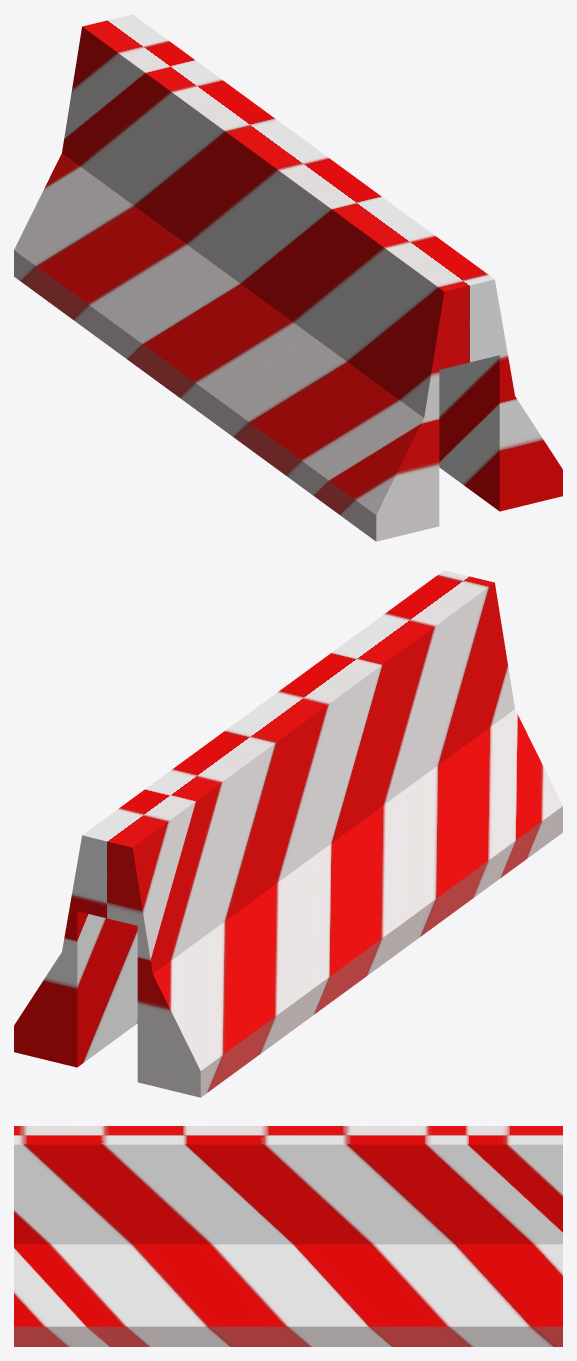
The model's file is road_block_t2.FBX.
3 views of the same model, one above another, from view 1: azimuth 30°, elevation 25°; view 2: azimuth 150°, elevation 25°; view 3: azimuth 270°, elevation 25° (orthographic). The views are drawn at different scales.
Parts seen in each view (by area): view 1: Box002; view 2: Box002; view 3: Box002.
Part boxes in pixels (bbox=[...]): Box002: bbox=[14, 14, 562, 541]; Box002: bbox=[14, 570, 562, 1097]; Box002: bbox=[14, 1126, 562, 1346].
Size of the model in its own units: 3.37 by 11.31 by 4.02.
Materials: 1 (1 with a texture image).
